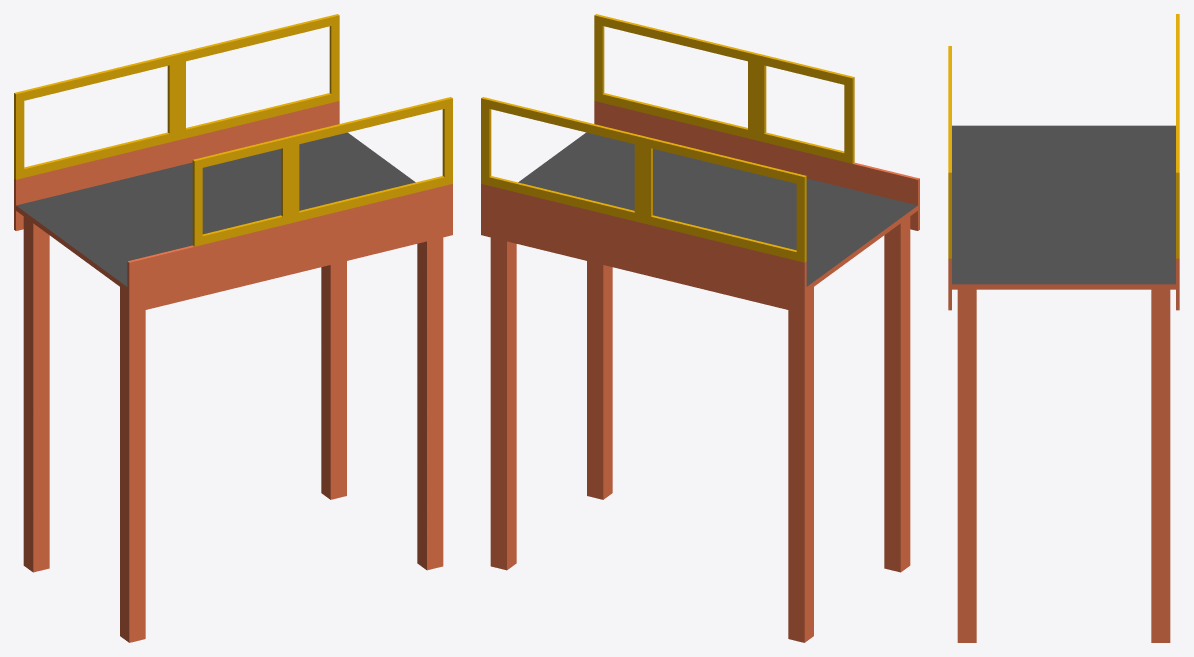
The model's file is Prop_Industrial_Platform_Walkway_Narrow_Straight_02_1.FBX.
3 renders of one model, left to right at view 1: azimuth 30°, elevation 25°; view 2: azimuth 150°, elevation 25°; view 3: azimuth 270°, elevation 25°, orthographic.
Visible parts, largest first — view 1: Prop_Industrial_Platform_Walkway_Narrow_Straight_02_1; view 2: Prop_Industrial_Platform_Walkway_Narrow_Straight_02_1; view 3: Prop_Industrial_Platform_Walkway_Narrow_Straight_02_1.
Boxes of the visible parts, x1,y1,x2,y2 form: Prop_Industrial_Platform_Walkway_Narrow_Straight_02_1: [14, 14, 452, 642]; Prop_Industrial_Platform_Walkway_Narrow_Straight_02_1: [481, 14, 919, 642]; Prop_Industrial_Platform_Walkway_Narrow_Straight_02_1: [948, 14, 1179, 642].
Size of the model in its own units: 3960 by 5500 by 2440.
